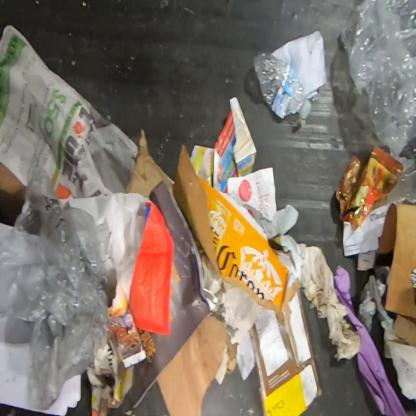cardboard: (175, 145, 288, 316), (249, 240, 322, 415), (156, 309, 239, 415), (376, 203, 416, 320), (124, 125, 175, 199), (0, 160, 29, 232)
rigid_plastic: (254, 52, 312, 121)
soft_plastic: (0, 164, 109, 410), (339, 0, 415, 159), (387, 140, 415, 207)
